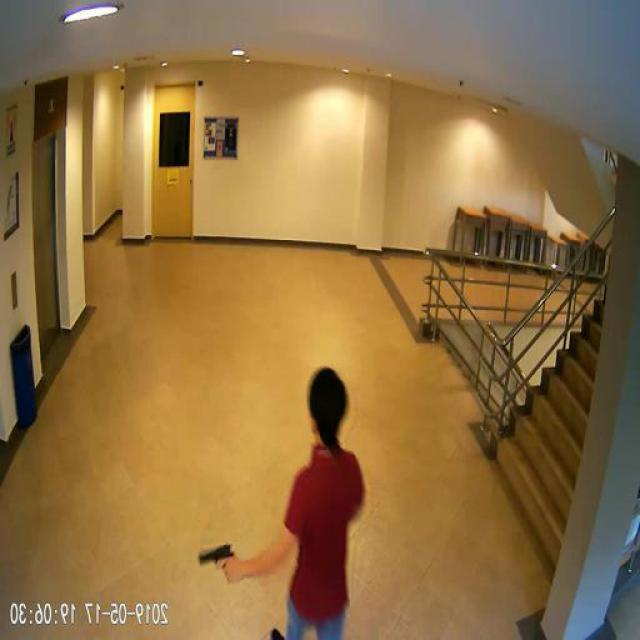weapon: (197, 546, 240, 580)
